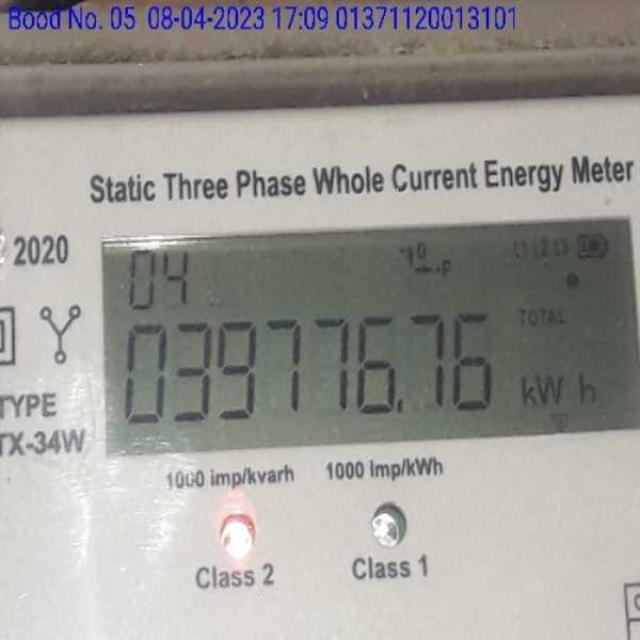0: (120, 321, 170, 430)
3: (168, 317, 214, 429)
6: (448, 305, 497, 416), (353, 308, 396, 419)
7: (307, 310, 354, 424), (265, 308, 308, 427), (407, 303, 450, 420)
9: (214, 314, 260, 432)
Digital meter: (107, 238, 640, 443)
point: (392, 394, 412, 421)
